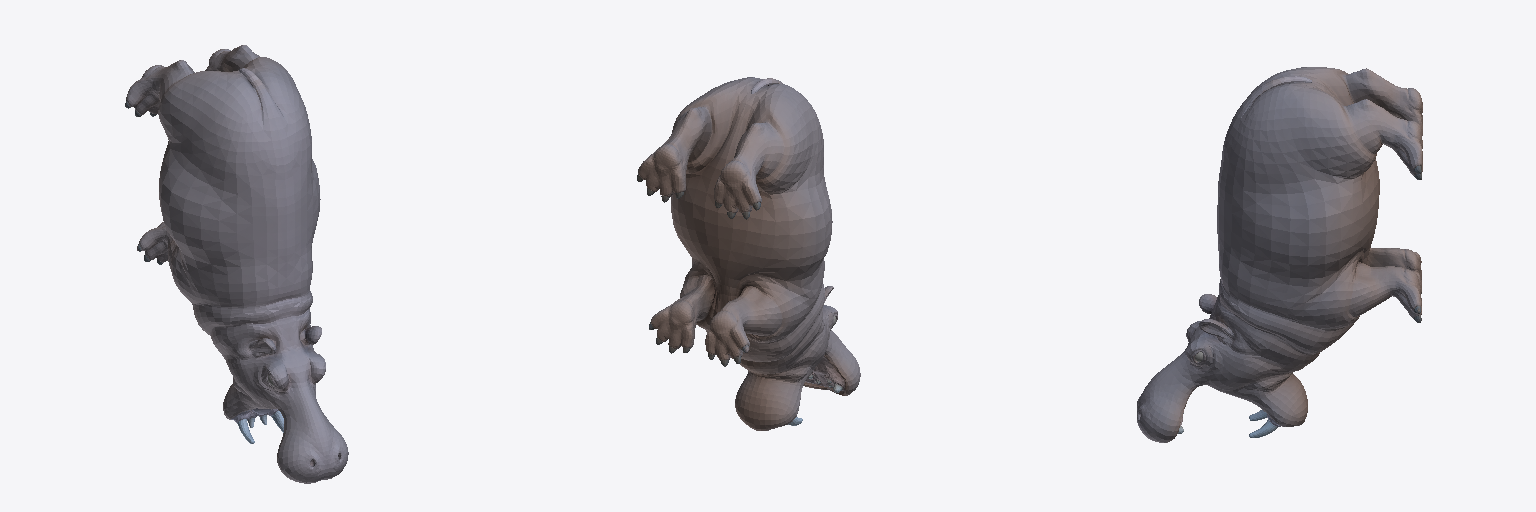
3 renders of one model, left to right at view 1: azimuth 30°, elevation 25°; view 2: azimuth 150°, elevation 25°; view 3: azimuth 270°, elevation 25°, orthographic.
Visible parts, largest first — view 1: Hippo; view 2: Hippo; view 3: Hippo.
Boxes of the visible parts, box(x1,y1,x2,y2) form: Hippo: box(125, 45, 348, 483); Hippo: box(637, 77, 860, 430); Hippo: box(1137, 67, 1422, 442).
Size of the model in its own units: 1.32 by 3.13 by 2.26.
Materials: 1 (1 with a texture image).